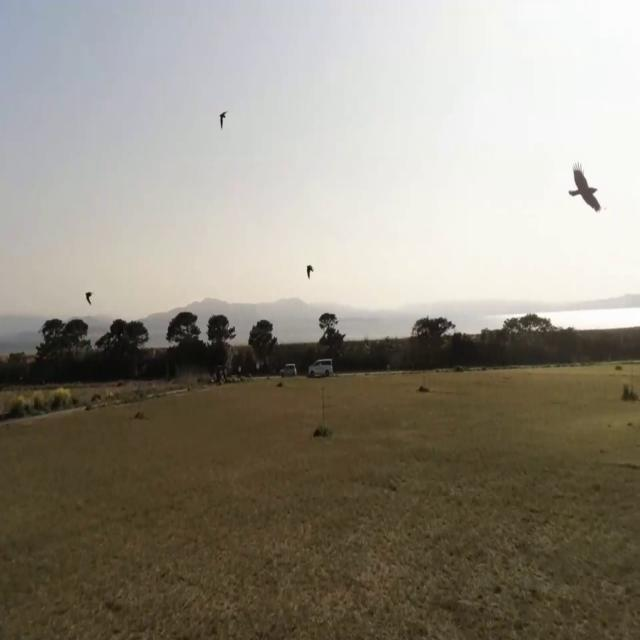bird: (568, 146, 604, 229), (219, 105, 227, 132), (306, 258, 314, 282), (85, 284, 93, 307)
